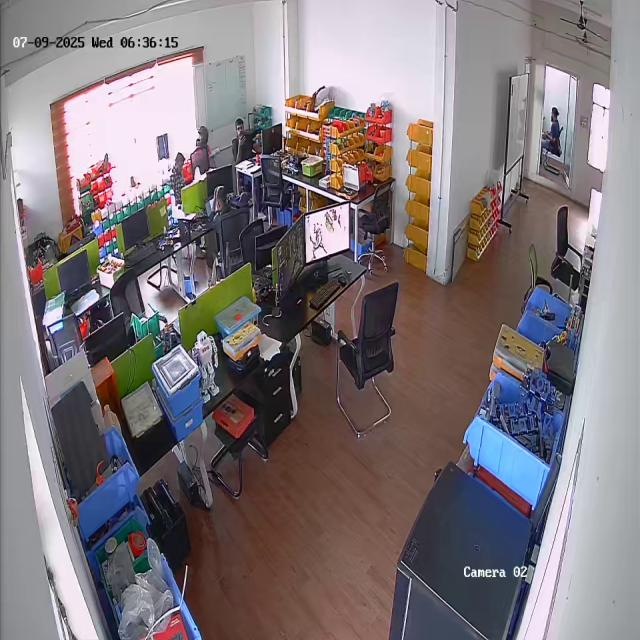person: (204, 186, 242, 258), (544, 105, 566, 173), (228, 118, 255, 166), (165, 152, 186, 208)
